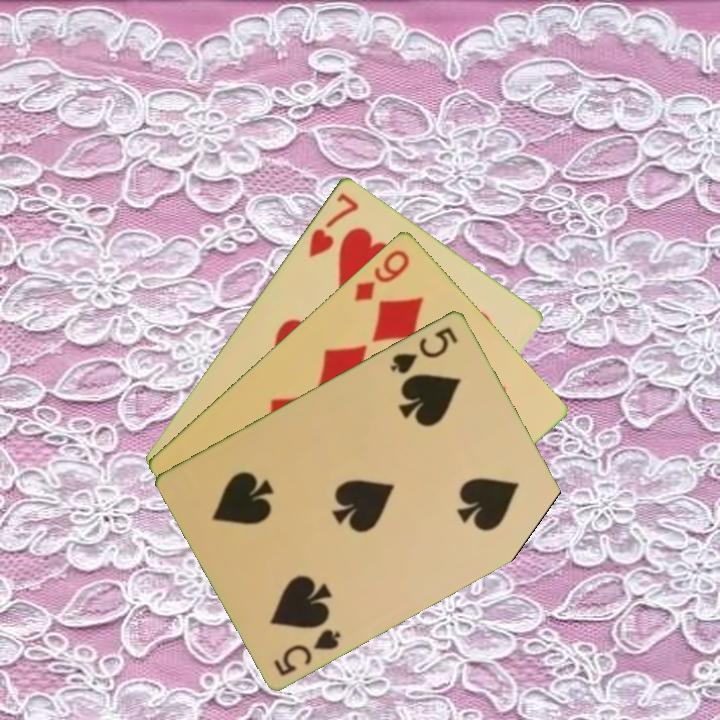5s: (387, 322, 461, 377), (270, 624, 344, 678)
7h: (305, 189, 362, 260)
9d: (350, 245, 413, 304)
